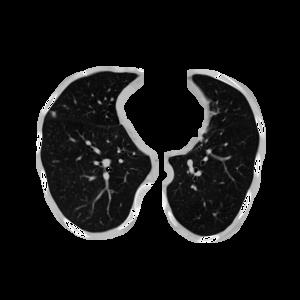PN: (49, 110, 57, 118)
